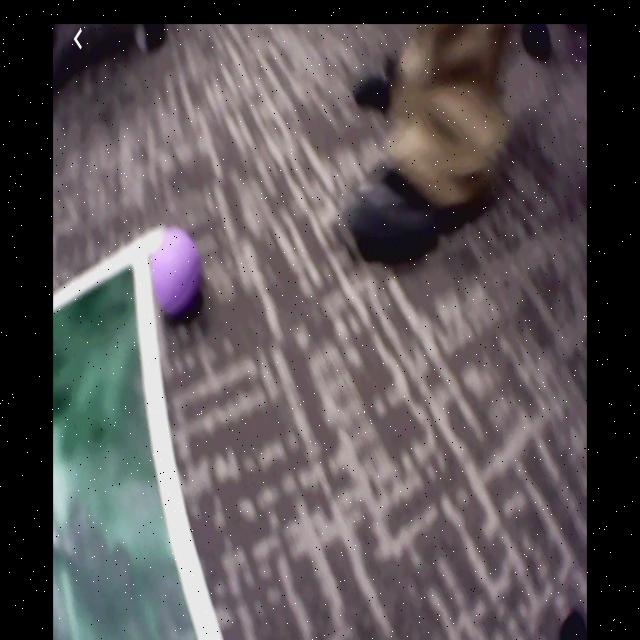ball: (151, 226, 201, 312)
